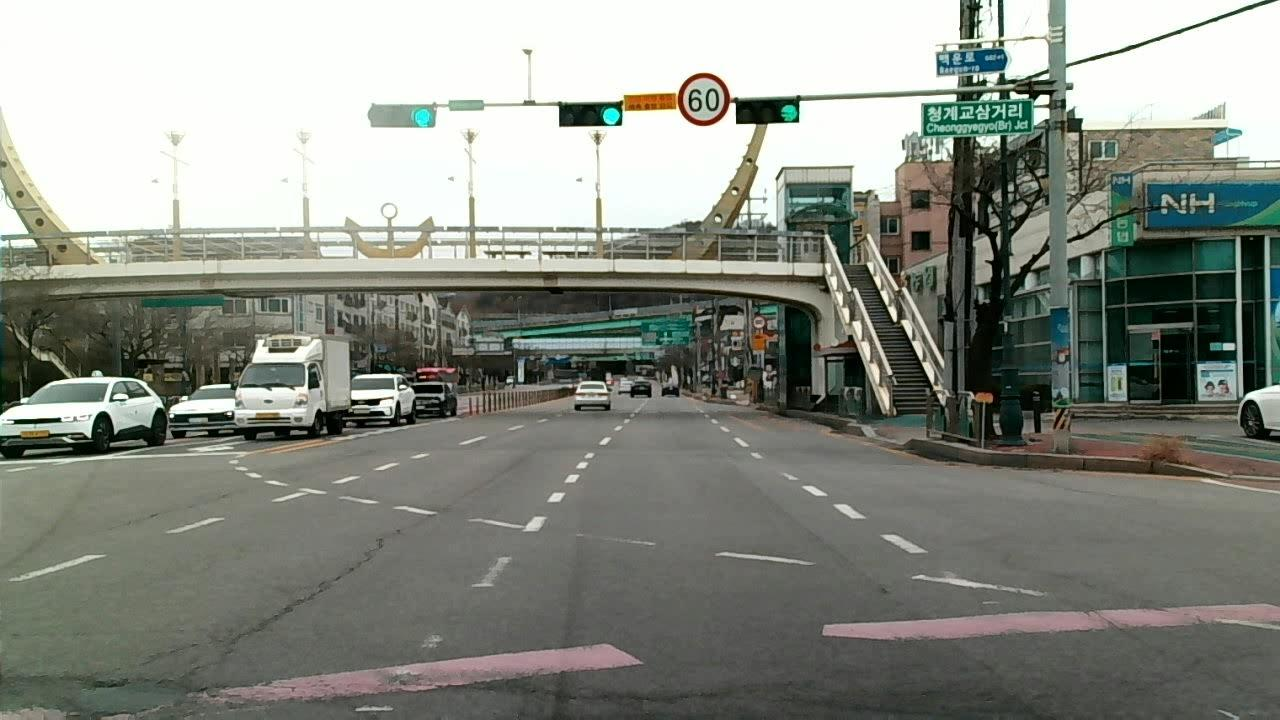hcrack: (464, 680, 992, 720)
vcrack: (172, 592, 311, 690), (6, 671, 163, 720), (311, 521, 407, 591), (859, 566, 919, 623)
